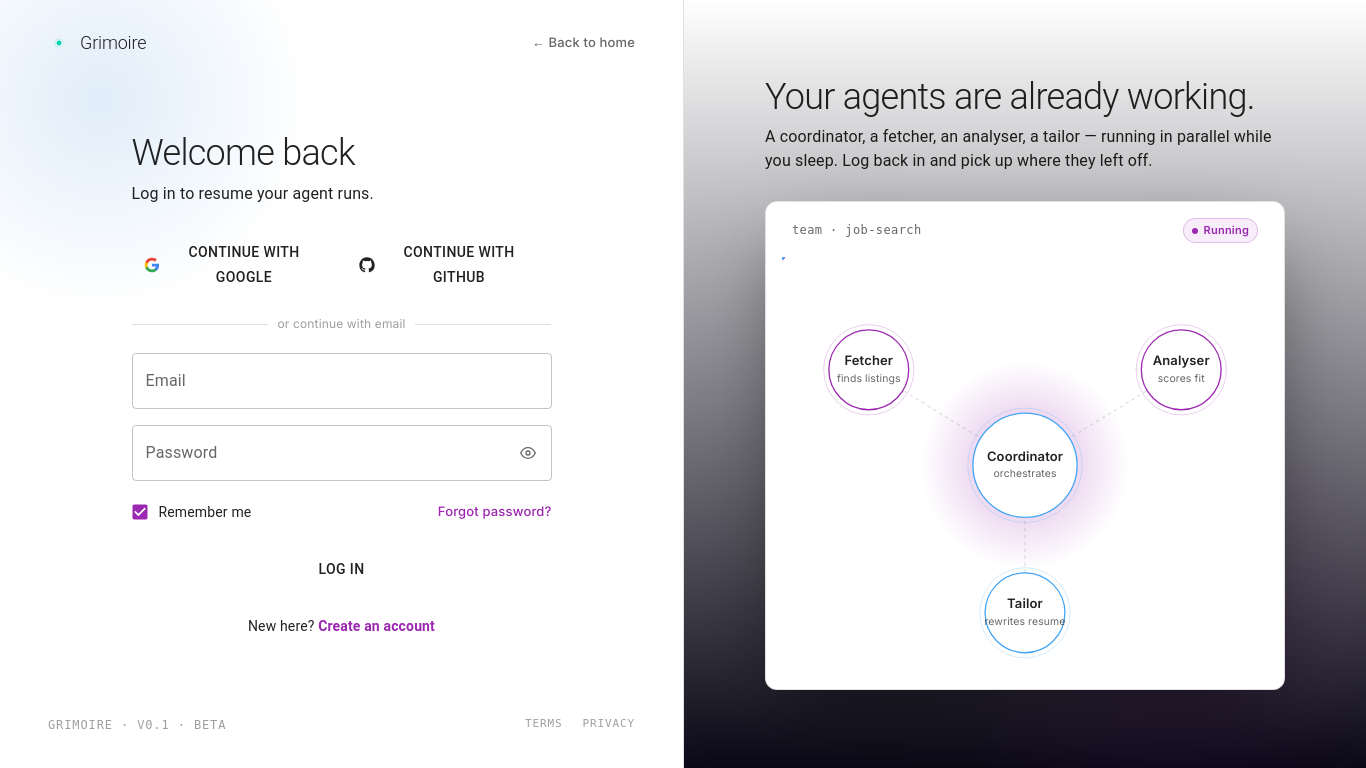
Test: LoginForm › shows server error message on auth failure
Type "user@example.com" into the field labelled "Email" at coordinates (342, 381), box [132,353,552,409]
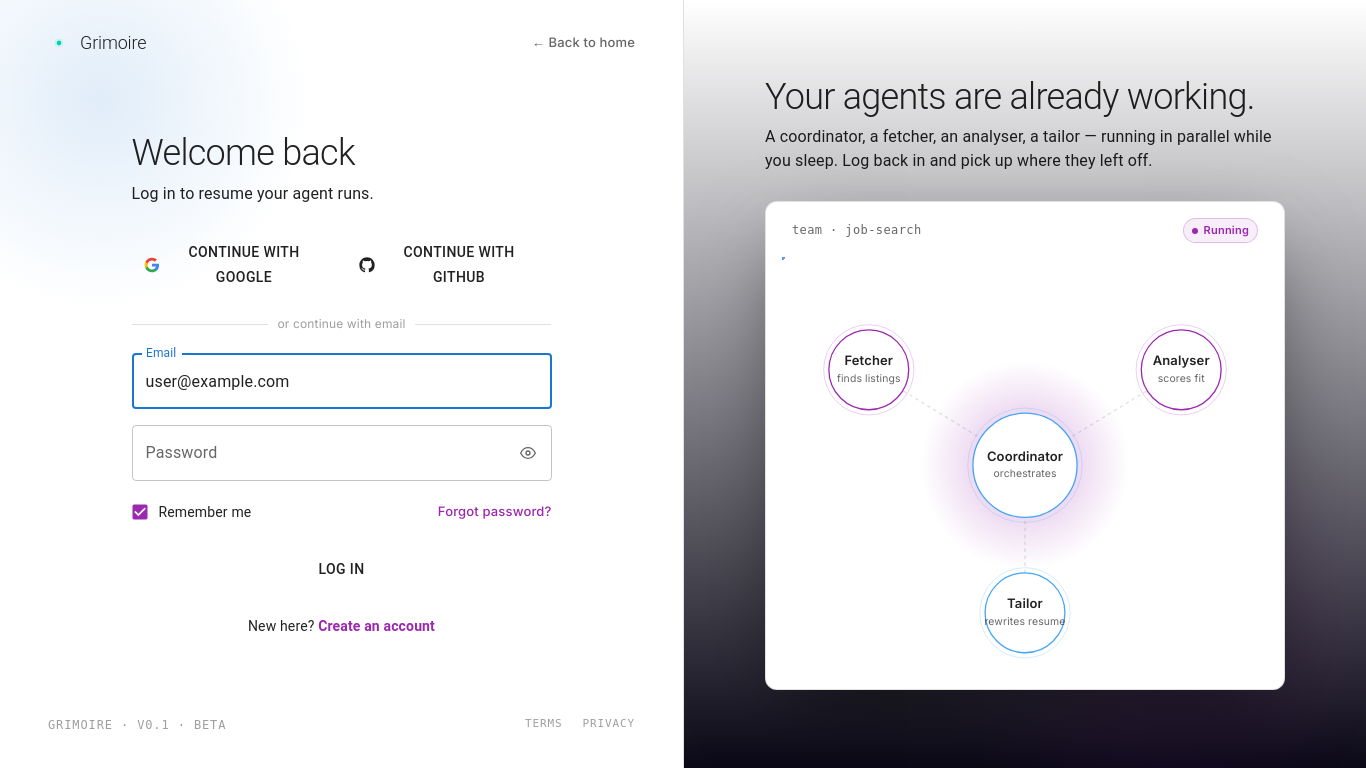
Type "wrongpass" into the password field with placeholder "••••••••" at coordinates (319, 453), box [132,425,506,481]
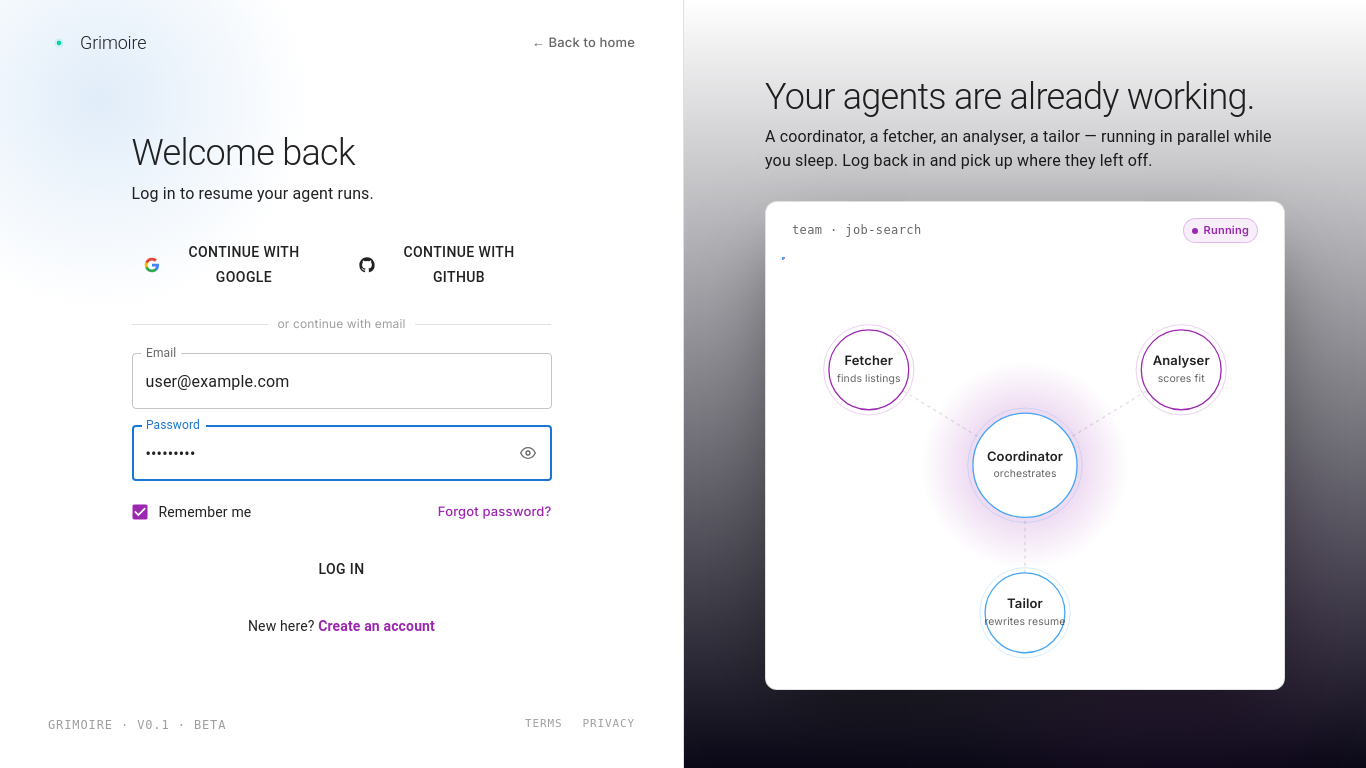
Click the button "Log in" at coordinates (342, 569), box [132,551,552,588]
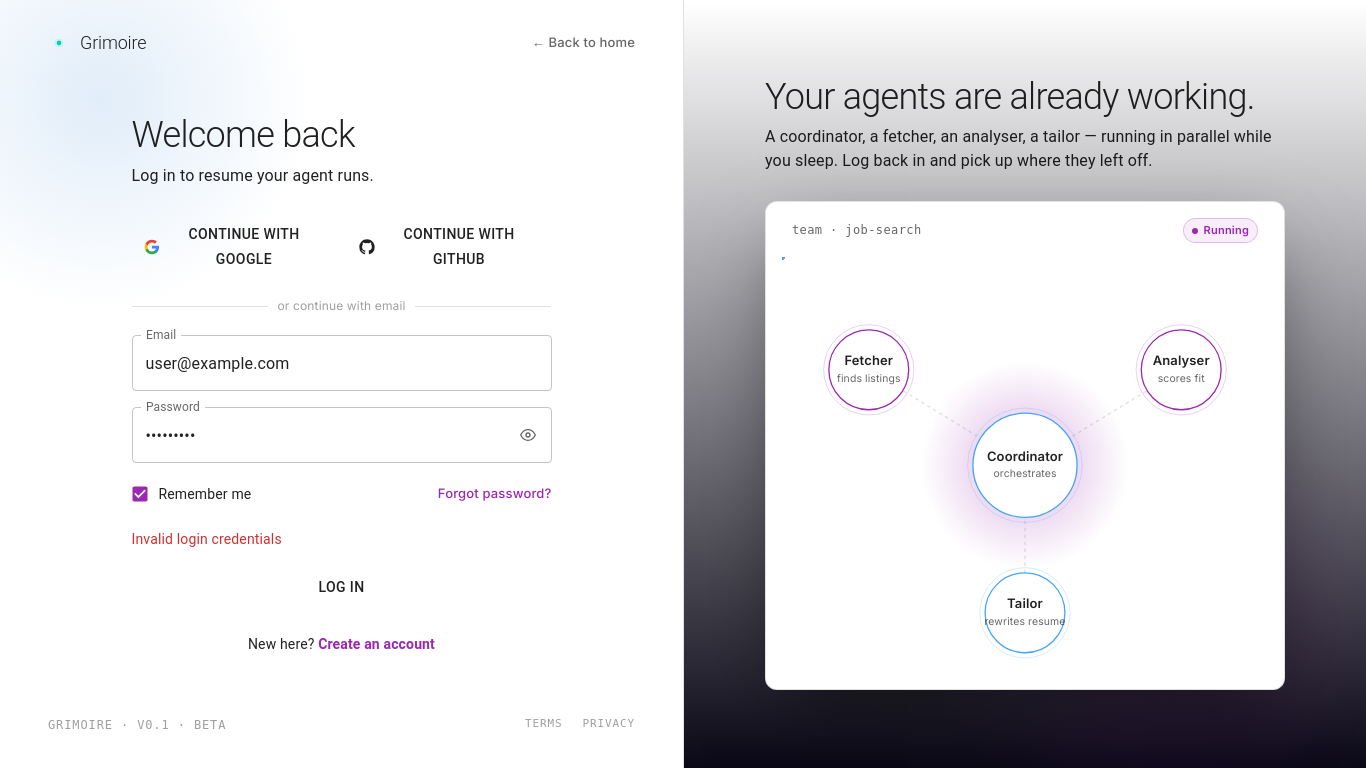
Check: the message reads "Invalid login credentials", box [132,531,282,547]
